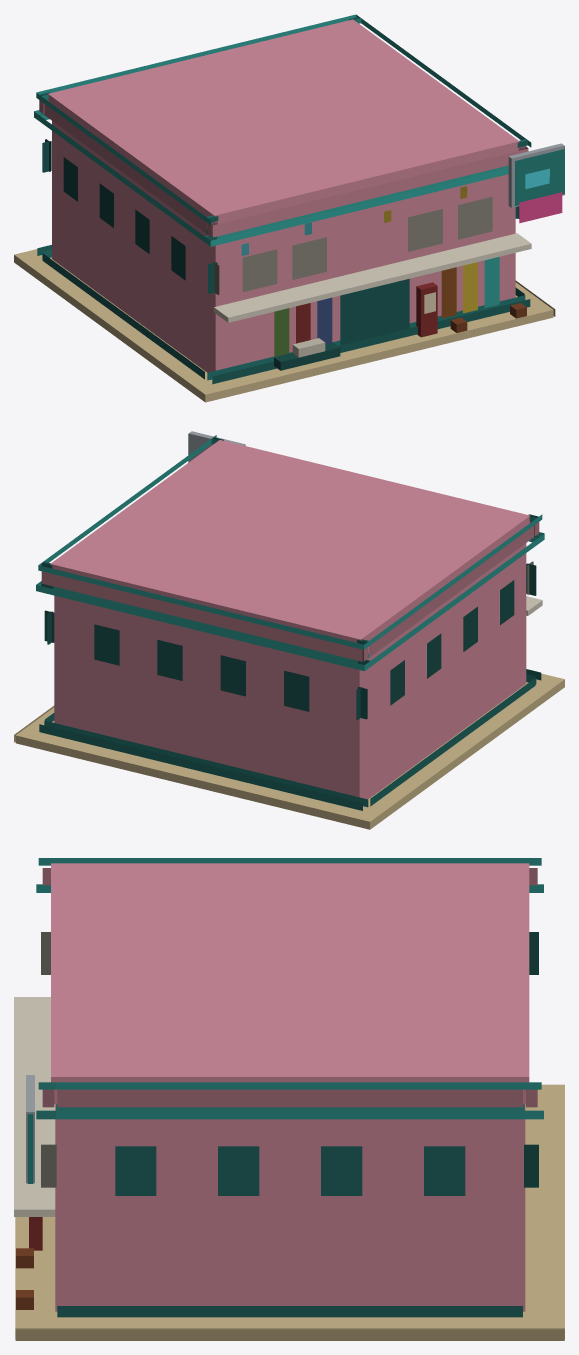
File: MirageFishSil.fbx
3 views of the same model, one above another, from view 1: azimuth 30°, elevation 25°; view 2: azimuth 150°, elevation 25°; view 3: azimuth 270°, elevation 25° (orthographic). The views are drawn at different scales.
Visible parts, largest first — view 1: MI_S_All; view 2: MI_S_All; view 3: MI_S_All.
Boxes of the visible parts, box(x1,y1,x2,y2) form: MI_S_All: box(14, 14, 564, 402); MI_S_All: box(14, 431, 564, 829); MI_S_All: box(14, 858, 564, 1340).
Size of the model in its own units: 43.94 by 19.9 by 40.14.
